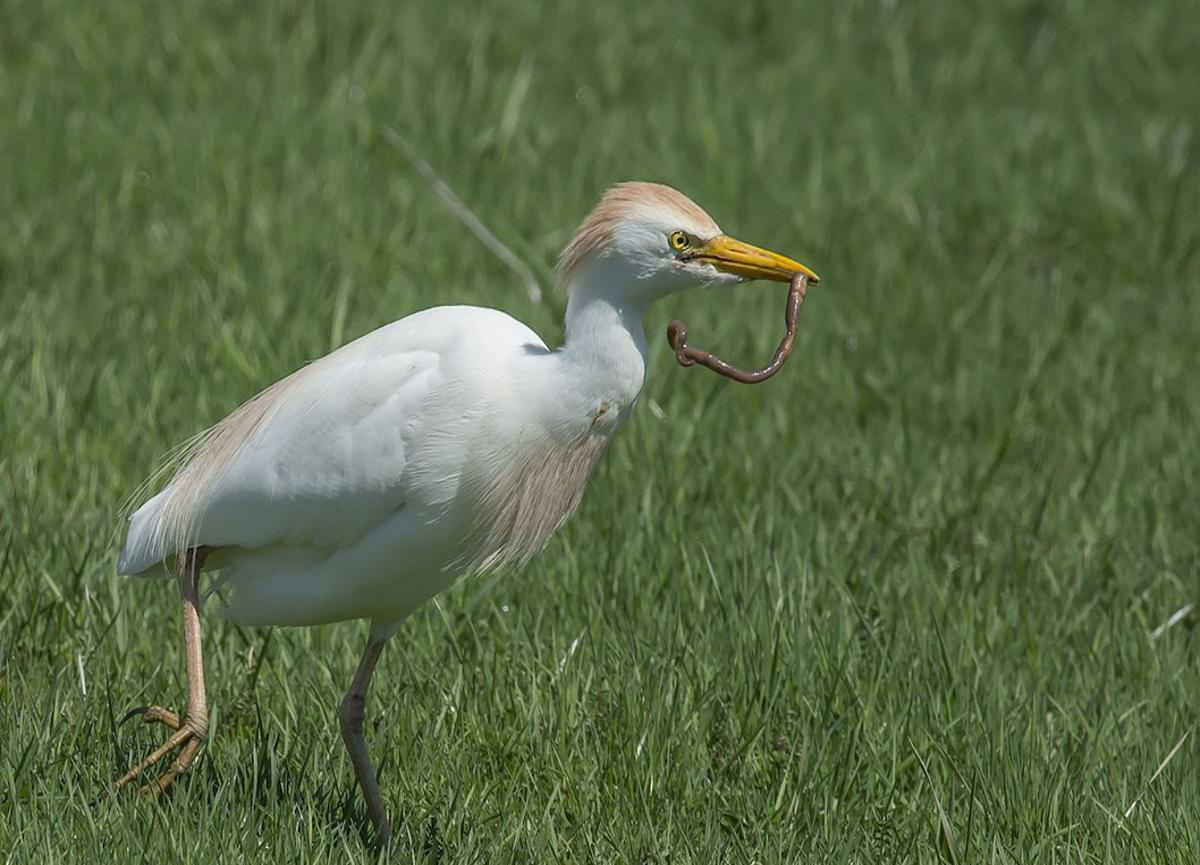egret: (96, 158, 837, 824)
